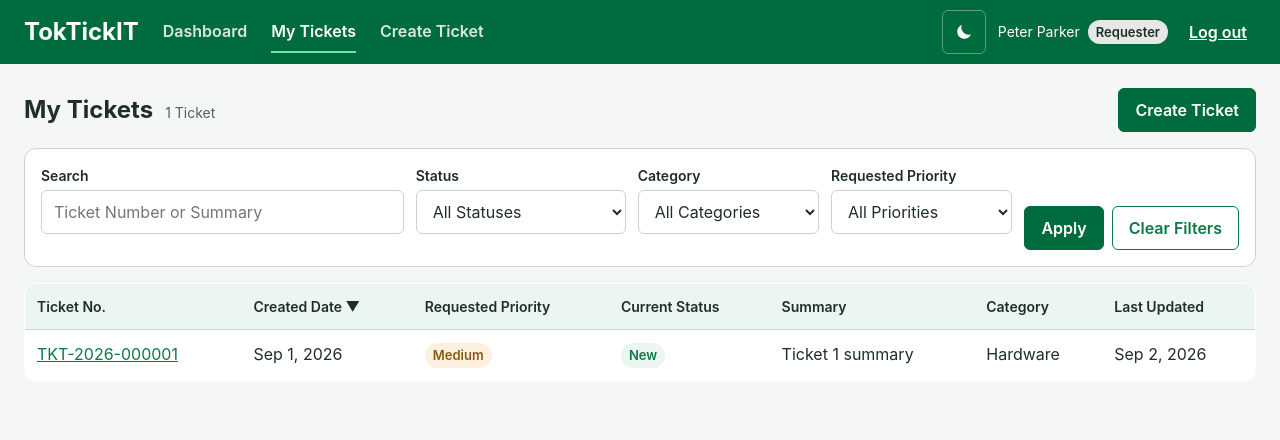
Test: My Tickets › Clear Filters resets the controls and refetches unfiltered
Expected: the link "TKT-2026-000001" is shown, [37,344,178,364]
Type "nothing" into the search field labelled "Search" at (222, 212), box [41,190,404,234]
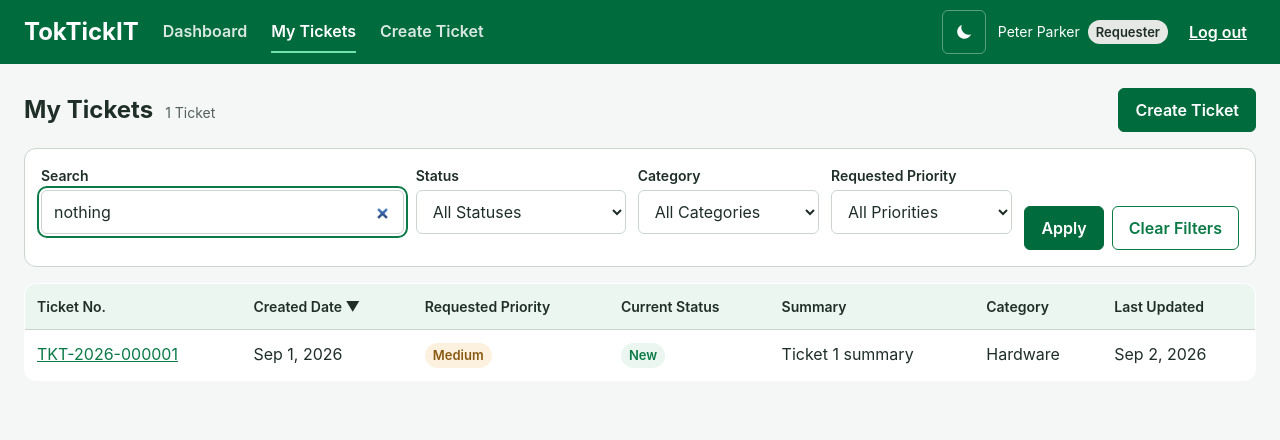
Click the button "Apply" at (1064, 228), box [1024,206,1104,250]
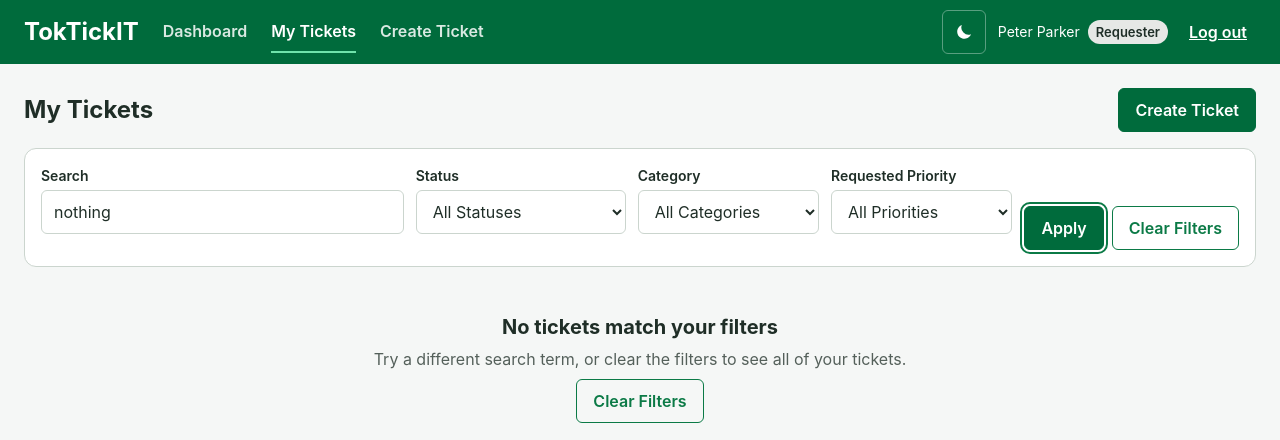
Result: the heading "No tickets match your filters" is shown at [502,315,778,339]
Click the button "Clear Filters" below "Requested Priority" at (1175, 228), box [1112,206,1239,250]
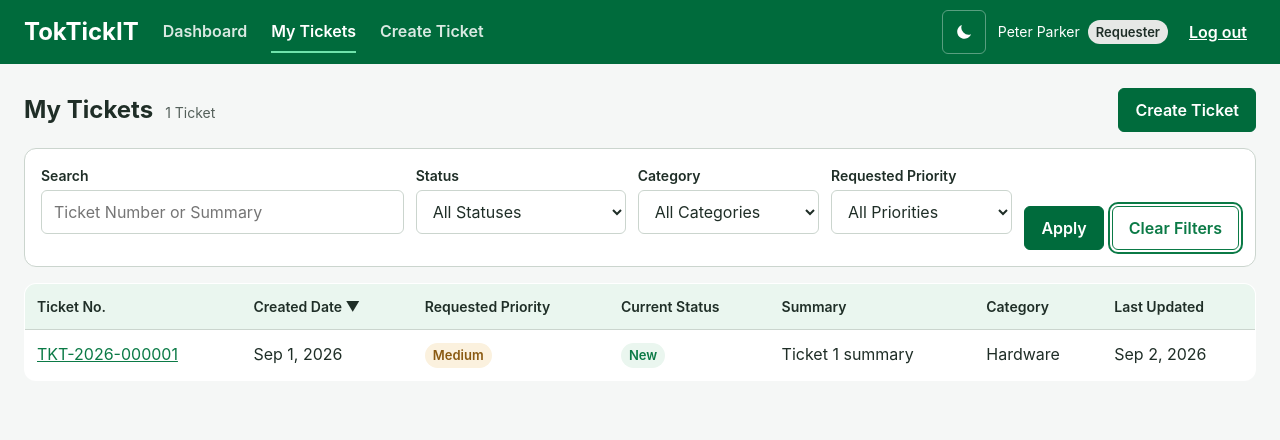
Result: the link "TKT-2026-000001" is shown at [37,344,178,364]
Result: the search field labelled "Search" is empty at [41,190,404,234]
